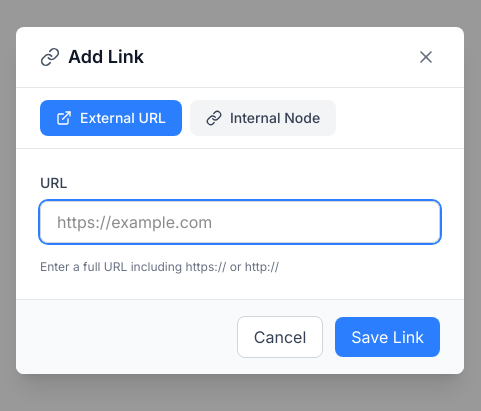
NodeLinkEditor › shows error when no node selected for internal link
This screenshot has width=481, height=411.
Click the button "Internal Node" at (263,118), box 190,100 -> 336,136
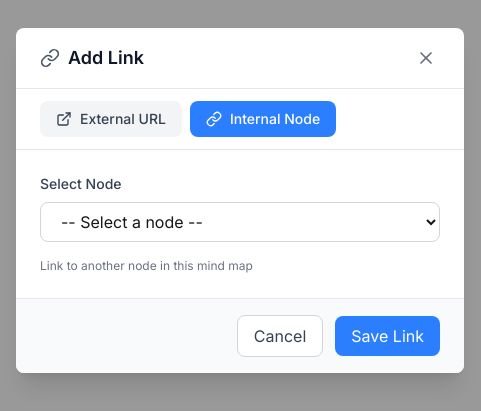
Click the button "Save Link" at (388,336), box 335,316 -> 440,356
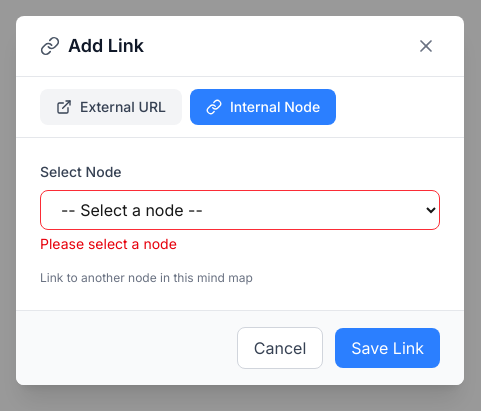
Expected: the text "Please select a node" is shown, 40,234 -> 177,252
